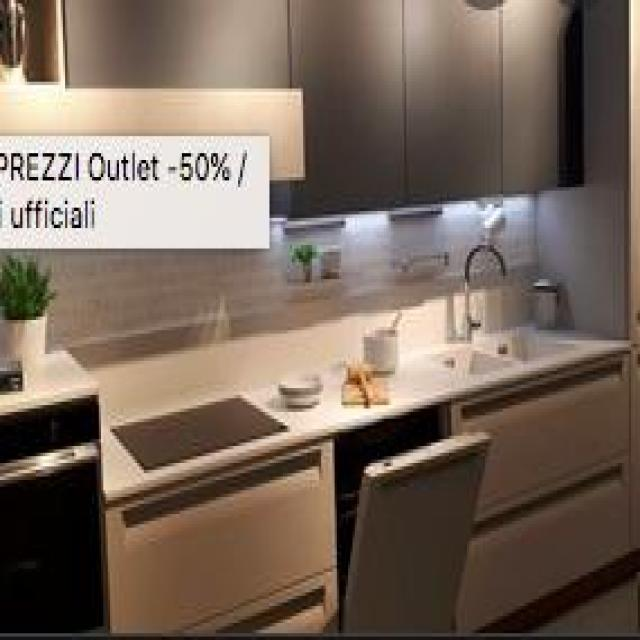dishwasher: (332, 398, 488, 637)
